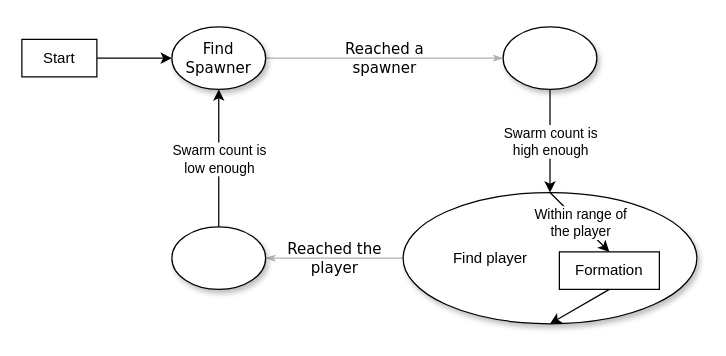
The diagram is 726 pixels wide and 356 high, and some of its shapes have lost their labels. Each missing label, with the centre of its shape:
"Attack" goes at pixel 219 259.
"Recruit" goes at pixel 550 59.
